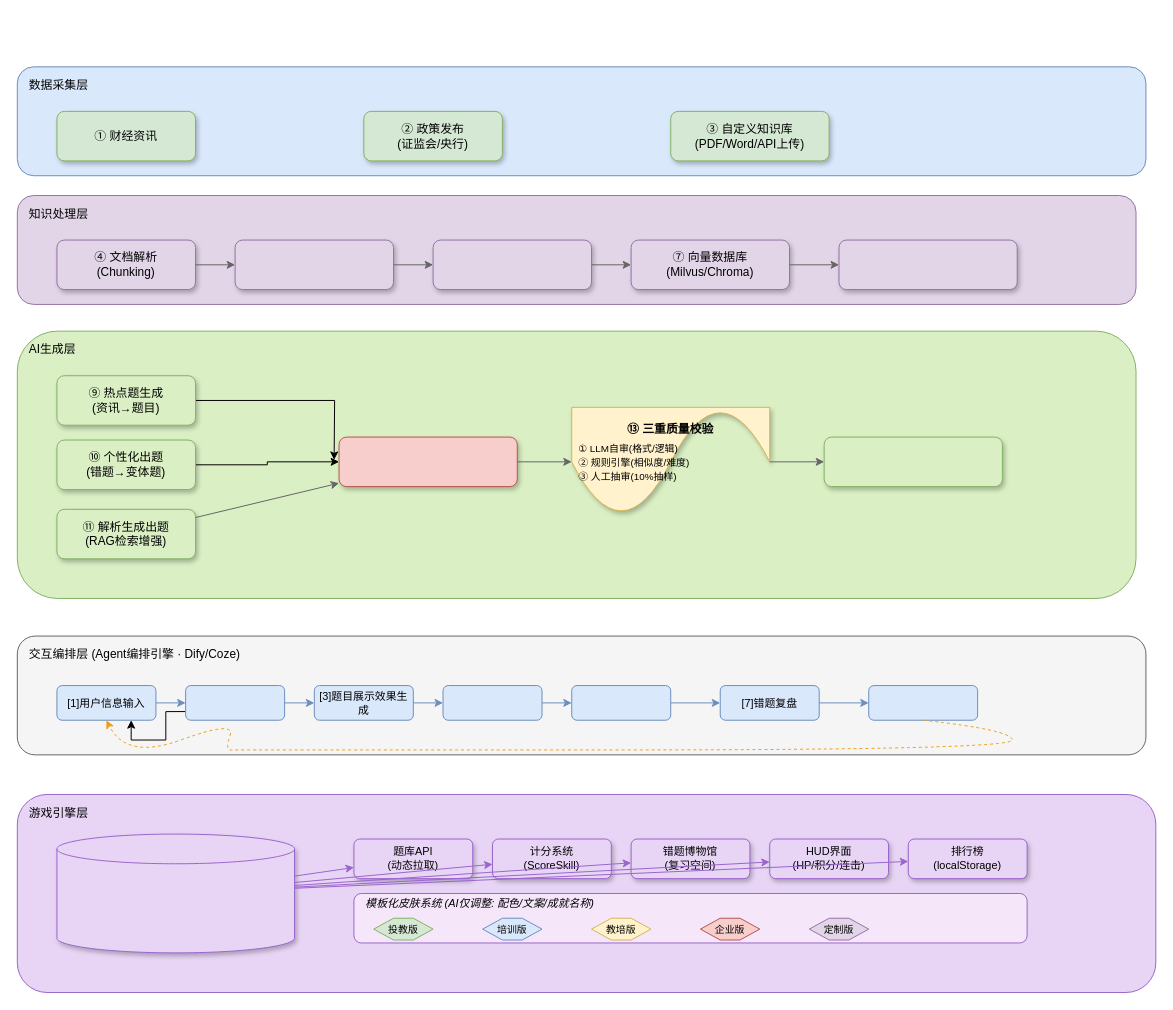
This 1173x1010 diagram has some shape labels left out. Each missing label, with the centre of its shape:
"[2]题库题目推荐" belongs at point (235, 702).
"[3]合规校验" belongs at point (492, 702).
"[6]答题收集" belongs at point (621, 702).
"[8]个性化更新" belongs at point (923, 702).
"⑤ Embedding向量化" belongs at point (314, 266).
"⑥ 混合检索 向量+BM25+Rerank" belongs at point (512, 266).
"⑧ 错题库+知识图谱 ( 用户掌握度)" belongs at point (928, 266).
"⑫ 合规过滤层 敏感词·免责声明·不荐股" belongs at point (428, 463).
"⑭ 题目入库" belongs at point (913, 463).
"投教闯关游戏" belongs at point (176, 894).
